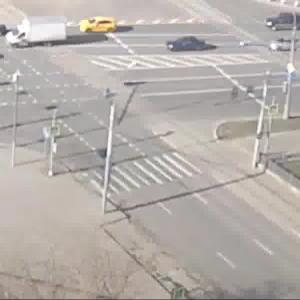car: (7, 22, 62, 48), (79, 18, 123, 35), (165, 37, 203, 53), (271, 17, 300, 34), (272, 36, 300, 51)
